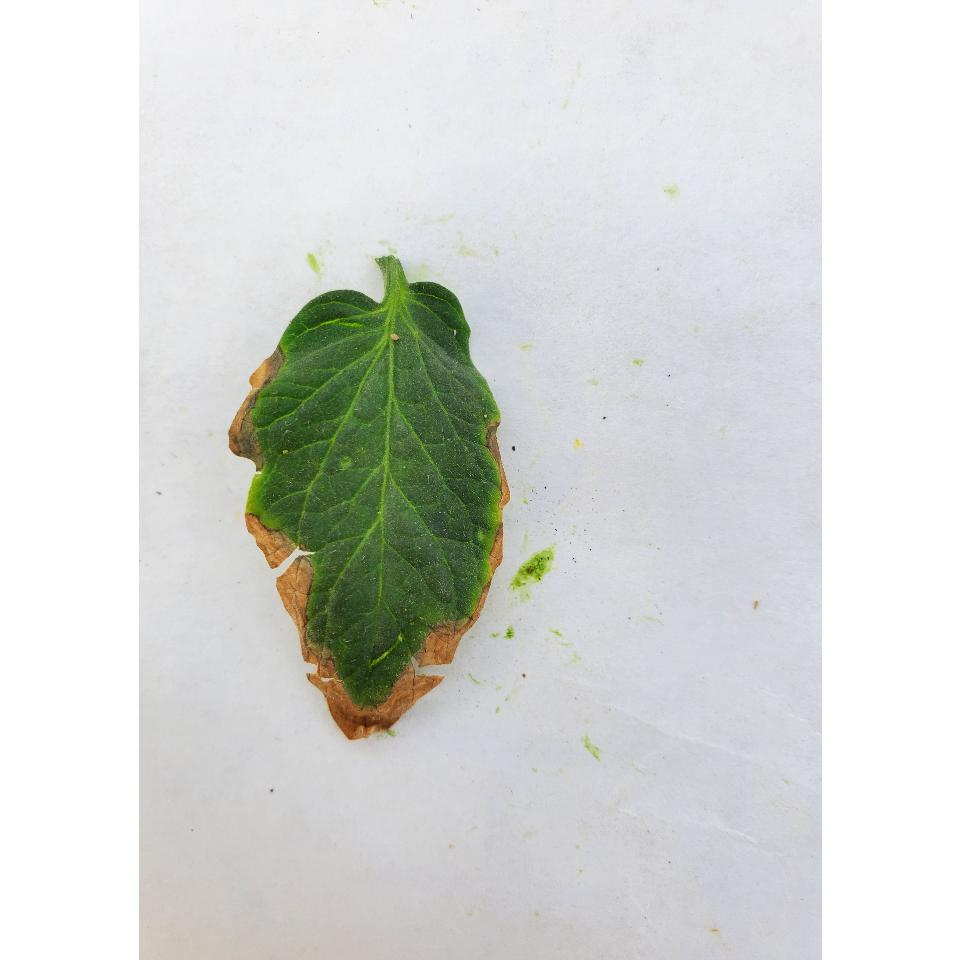tomato_bacterial_blight: (268, 276, 510, 746)
